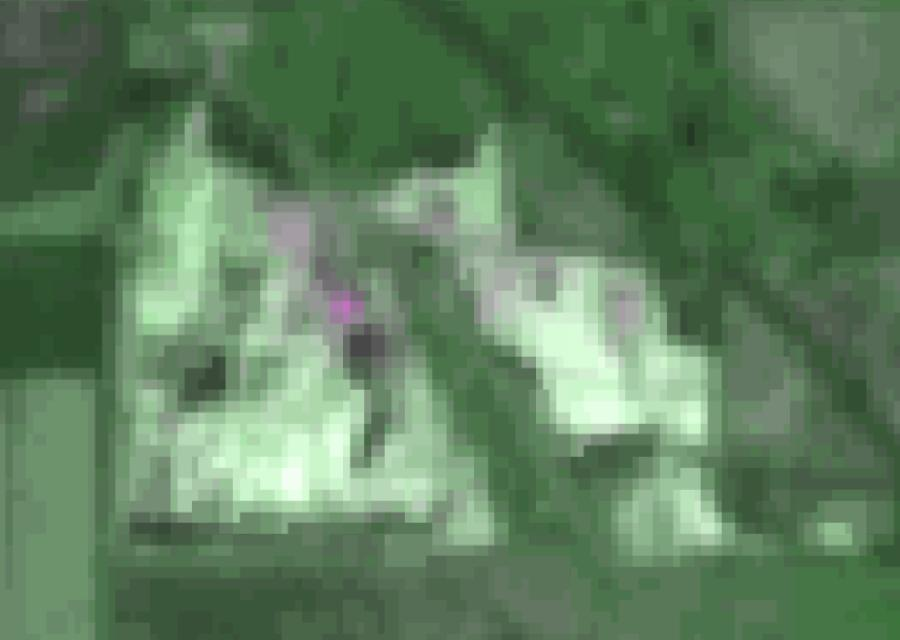Potential Lime Manufacturing Facility: (333, 291, 361, 325)
